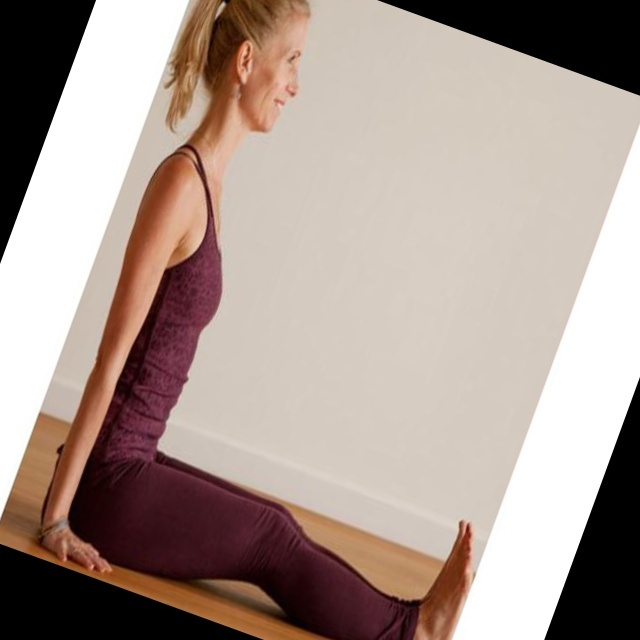Staff_Pose: (41, 4, 474, 637)
